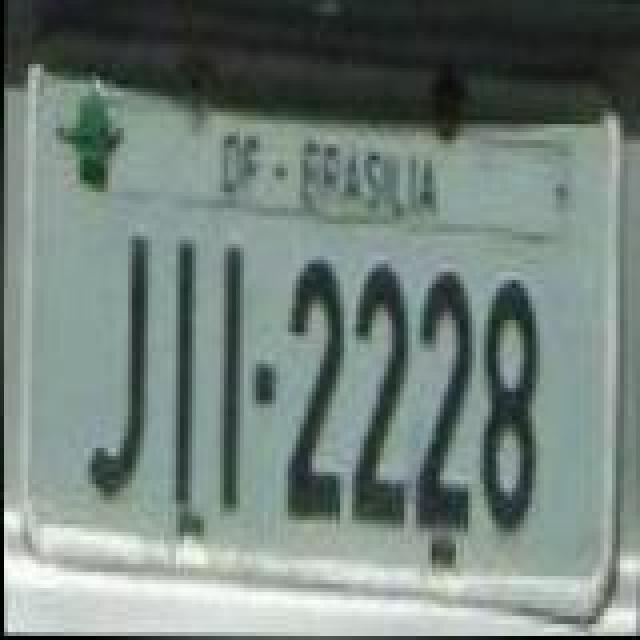1: (218, 242, 246, 518), (174, 234, 198, 510)
2: (280, 256, 344, 524), (410, 264, 470, 536), (346, 256, 406, 524)
8: (476, 276, 540, 544)
J: (86, 226, 150, 502)
